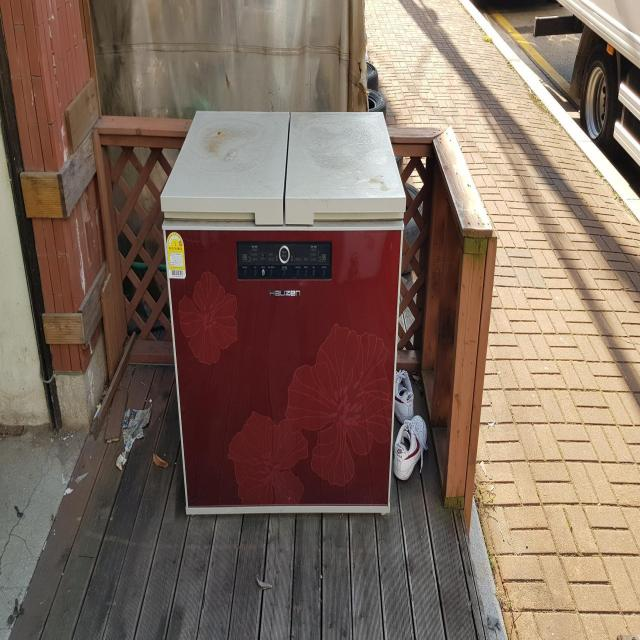refrigerator: (156, 102, 409, 524)
